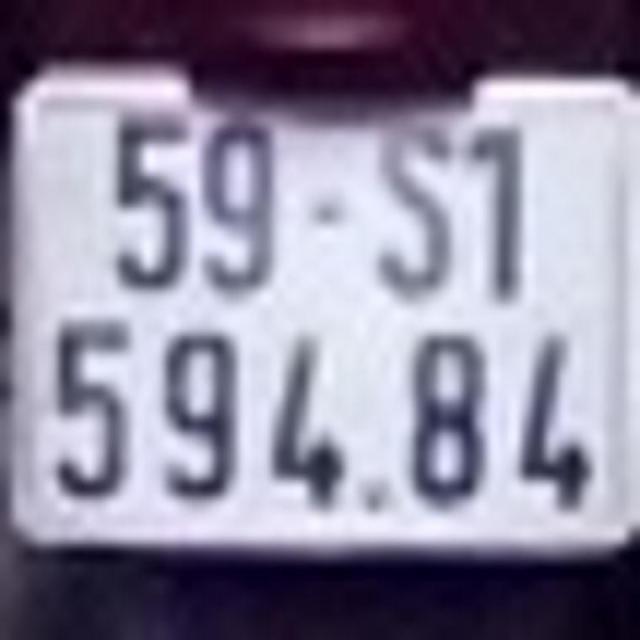1: (467, 118, 532, 304)
4: (511, 318, 598, 510), (264, 326, 350, 506)
5: (108, 103, 194, 288), (49, 316, 133, 503)
8: (402, 323, 492, 512)
9: (155, 318, 244, 500), (200, 116, 280, 295)
S: (374, 120, 456, 306)
